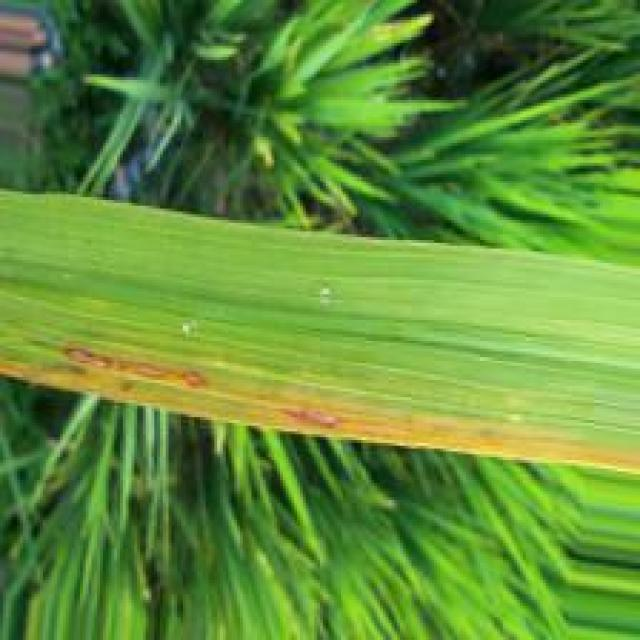Leaf_Blast: (58, 343, 220, 391), (276, 405, 358, 429)
